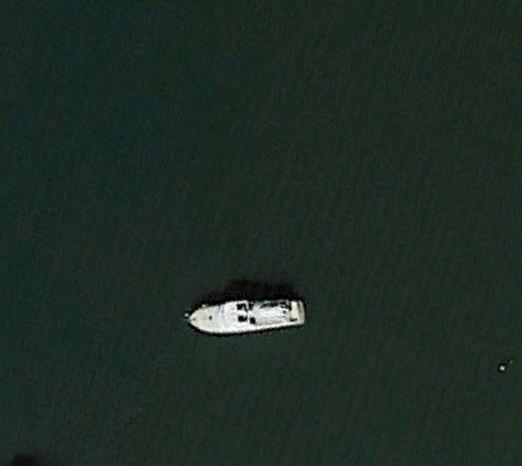Ships: (179, 280, 324, 349)
